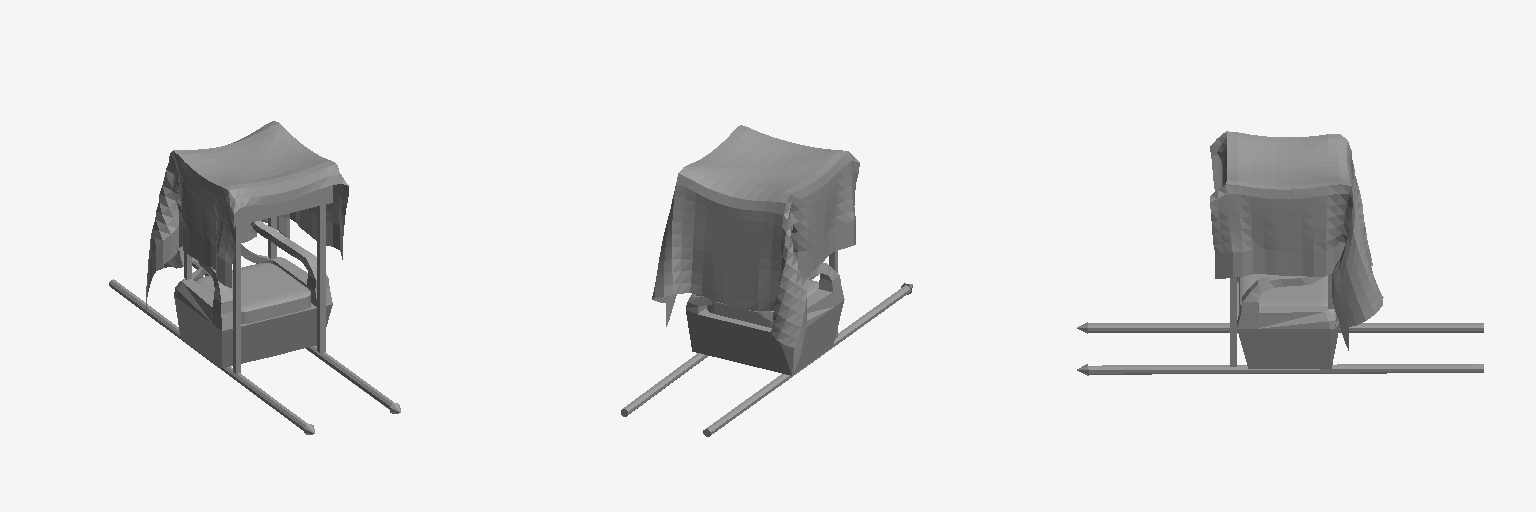
File: stoffding2.obj
The picture shows the model from 3 angles: view 1: azimuth 30°, elevation 25°; view 2: azimuth 150°, elevation 25°; view 3: azimuth 270°, elevation 25°; orthographic projection.
Visible parts, largest first — view 1: Plane, Sphere_Sphere.001, Cube.002_Cube.001, Cube_Cube.004, Cube.001_Cube.002; view 2: Plane, Sphere_Sphere.001, Cube.002_Cube.001; view 3: Plane, Sphere_Sphere.001, Cube.002_Cube.001, Cube_Cube.004.
Boxes of the visible parts, <box> form: Plane: <box>146,121,348,310</box>; Sphere_Sphere.001: <box>109,220,400,434</box>; Cube.002_Cube.001: <box>196,263,310,323</box>; Cube_Cube.004: <box>184,205,325,373</box>; Cube.001_Cube.002: <box>234,185,332,226</box>; Plane: <box>652,125,859,371</box>; Sphere_Sphere.001: <box>621,263,912,436</box>; Cube.002_Cube.001: <box>707,279,818,327</box>; Plane: <box>1210,131,1383,350</box>; Sphere_Sphere.001: <box>1077,275,1483,375</box>; Cube.002_Cube.001: <box>1239,274,1327,312</box>; Cube_Cube.004: <box>1230,273,1333,366</box>.
Bounding box in the file's own units: 2.04 × 2.69 × 5.07.